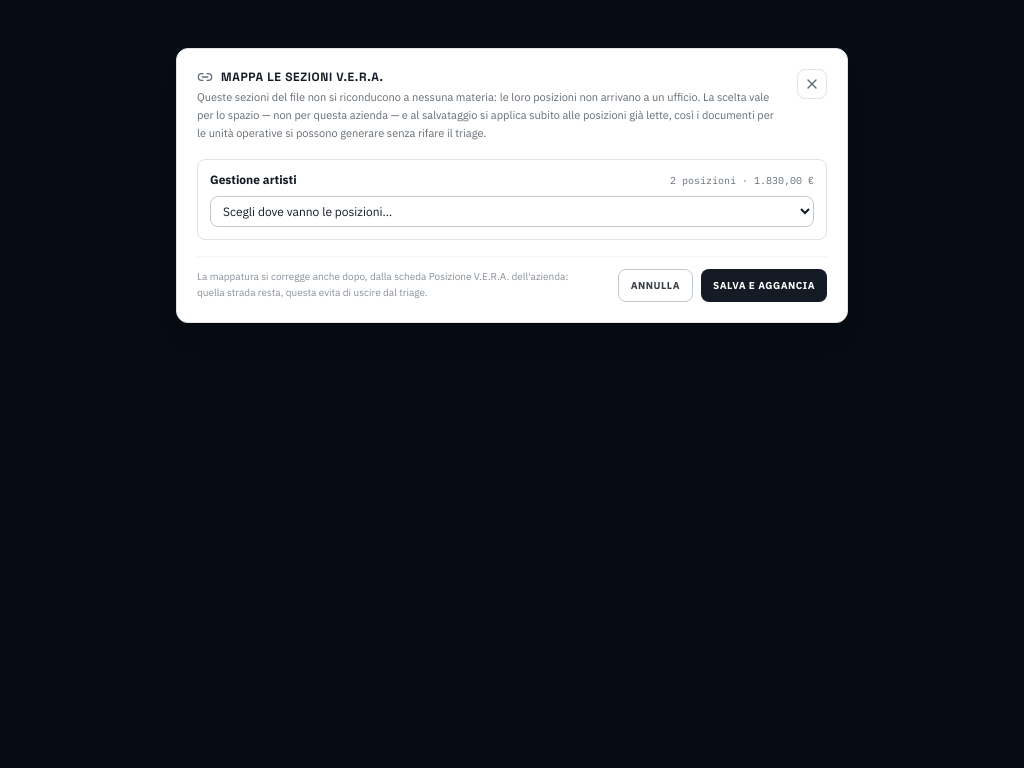
Scenario: mappatura delle sezioni V.E.R.A. › una sezione senza destinazione non si salva, e lo dice
Expected: the dropdown named "Destinazione di Gestione artisti" is shown, x1=210 y1=196 x2=814 y2=227
What coordinates should you click on to do the following:
click the button "Salva e aggancia"
I would click on:
 (764, 285)
Its box is x1=701 y1=269 x2=827 y2=302.
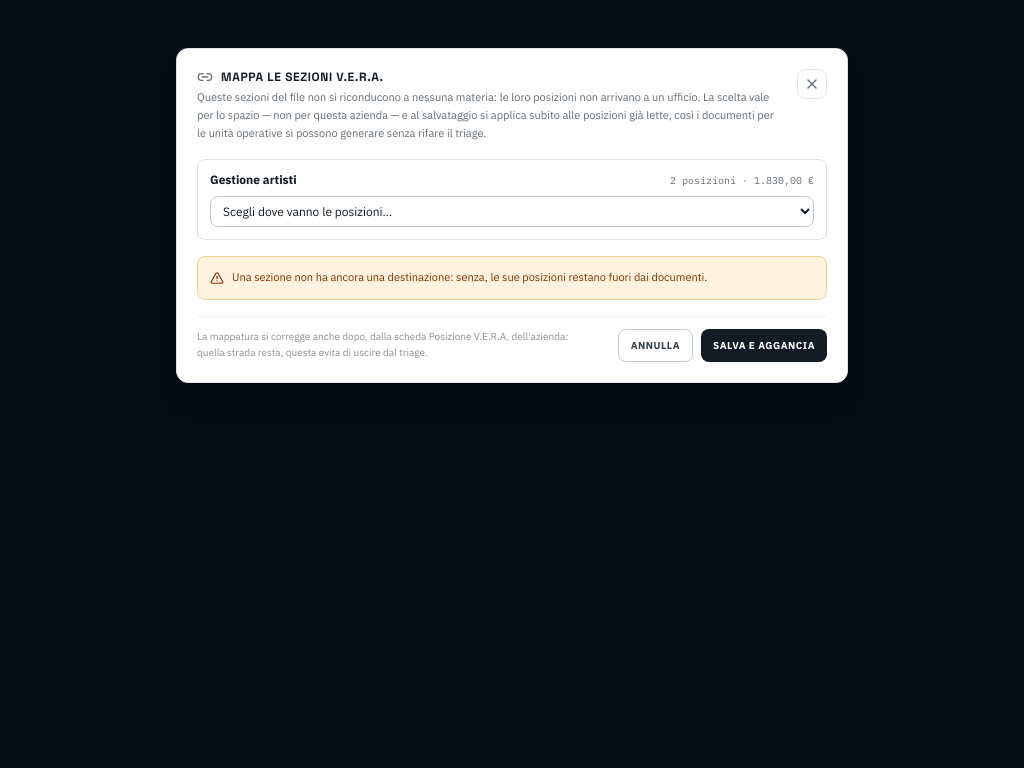
Expected: the text "non ha ancora una destinazione: senza, le sue posizioni restano fuori" is shown, x1=232 y1=270 x2=707 y2=284
